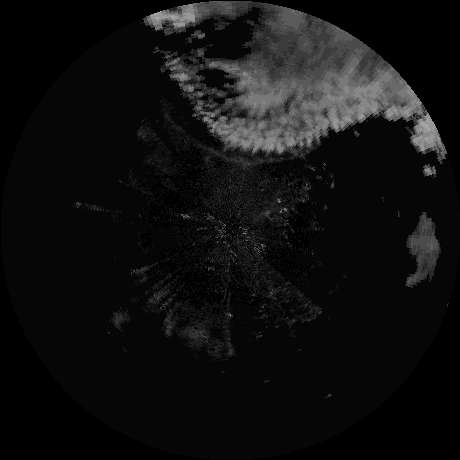frontgust: (187, 141, 297, 170)
